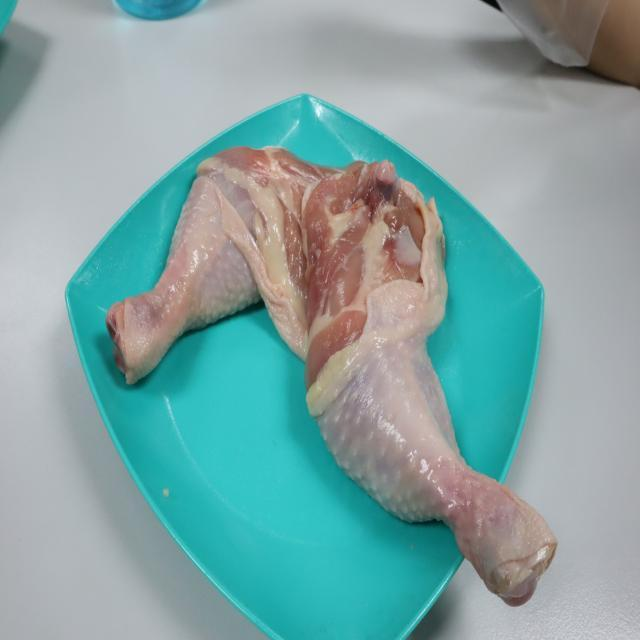quater: (306, 167, 556, 594), (106, 142, 320, 385)
